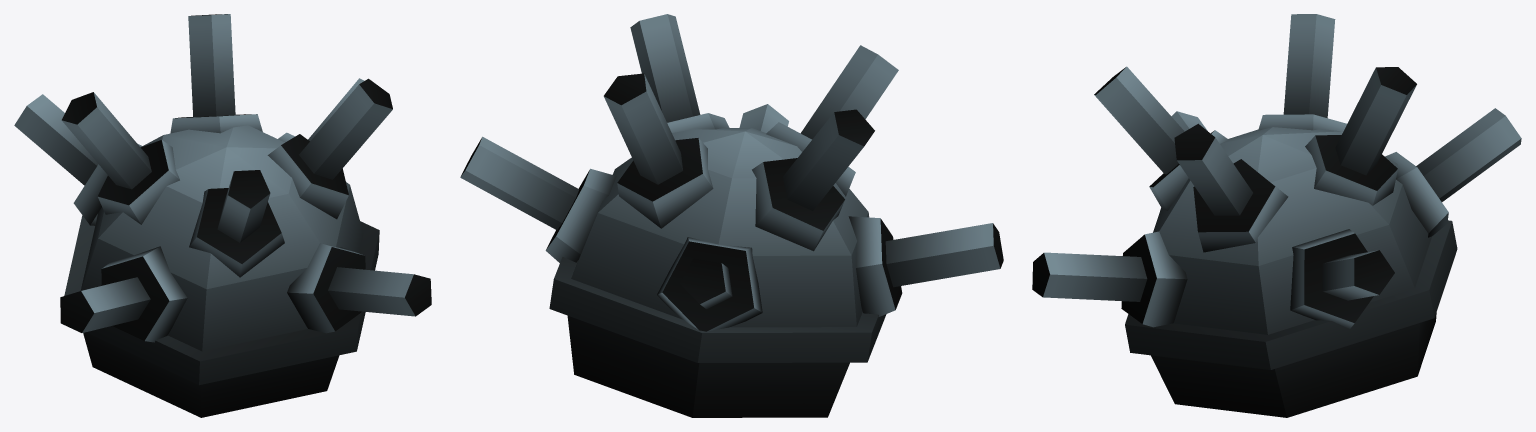
File: water_mine.glb
3 renders of one model, left to right at view 1: azimuth 30°, elevation 25°; view 2: azimuth 150°, elevation 25°; view 3: azimuth 270°, elevation 25°, orthographic. The views are drawn at different scales.
Visible parts, largest first — view 1: mine; view 2: mine; view 3: mine.
Part boxes in pixels (x1,y1,x2,y2): mine: (14, 14, 431, 417); mine: (460, 14, 1003, 417); mine: (1032, 14, 1521, 417).
Size of the model in its own units: 0.2724 by 0.2012 by 0.2691.
1 material, 1 textured.
